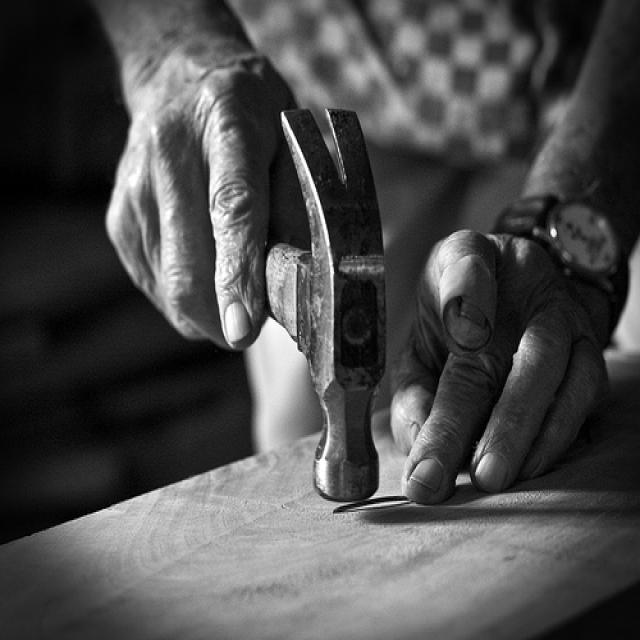hammer: (228, 99, 436, 496)
